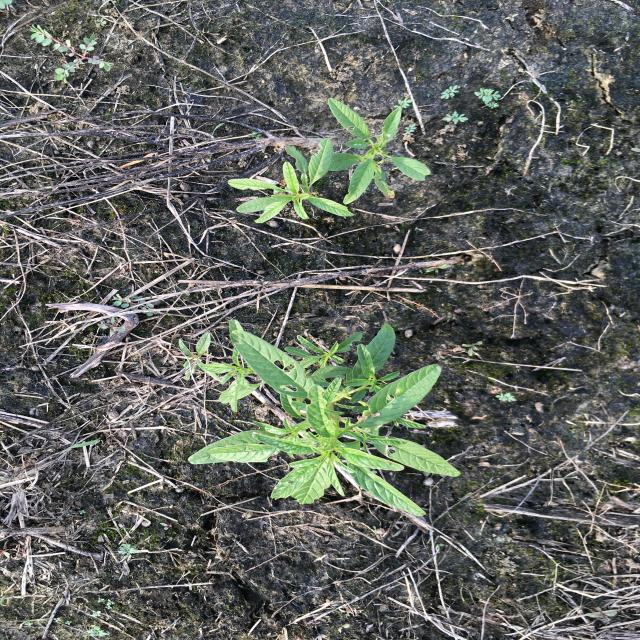SpottedSpurge: (26, 22, 117, 84), (94, 290, 160, 339)
Waterhemp: (177, 317, 463, 520), (226, 96, 432, 226)
